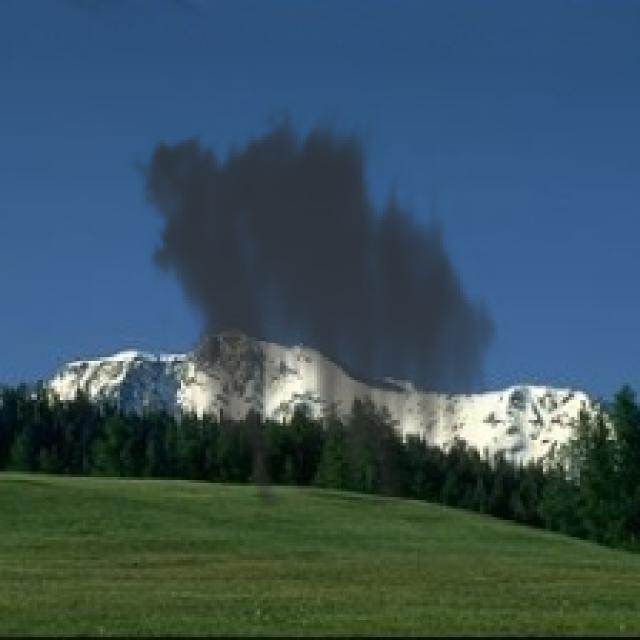smoke: (123, 100, 508, 506)
